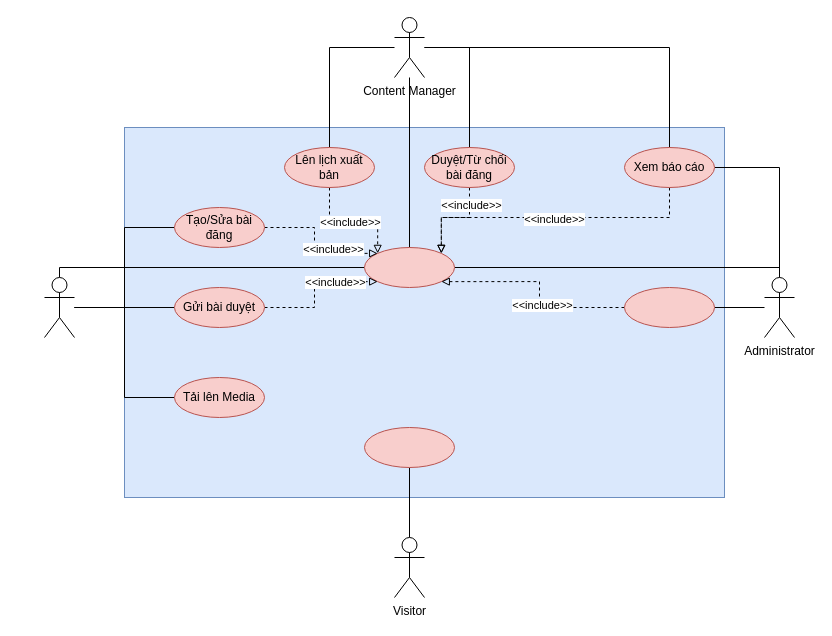
This 832x636 diagram has some shape labels left out. The shapes that lost their labels are listed below. From the top down, each one's box as (x1, y1, x2, y2) in pixels, then its label:
(364, 246, 454, 288): Đăng nhập
(44, 276, 74, 338): Content Creator
(124, 126, 724, 498): Hệ thống Media Platform Giải Chạy
(624, 286, 714, 328): Quản lý tài khoản
(364, 426, 454, 468): Xem nội dung
